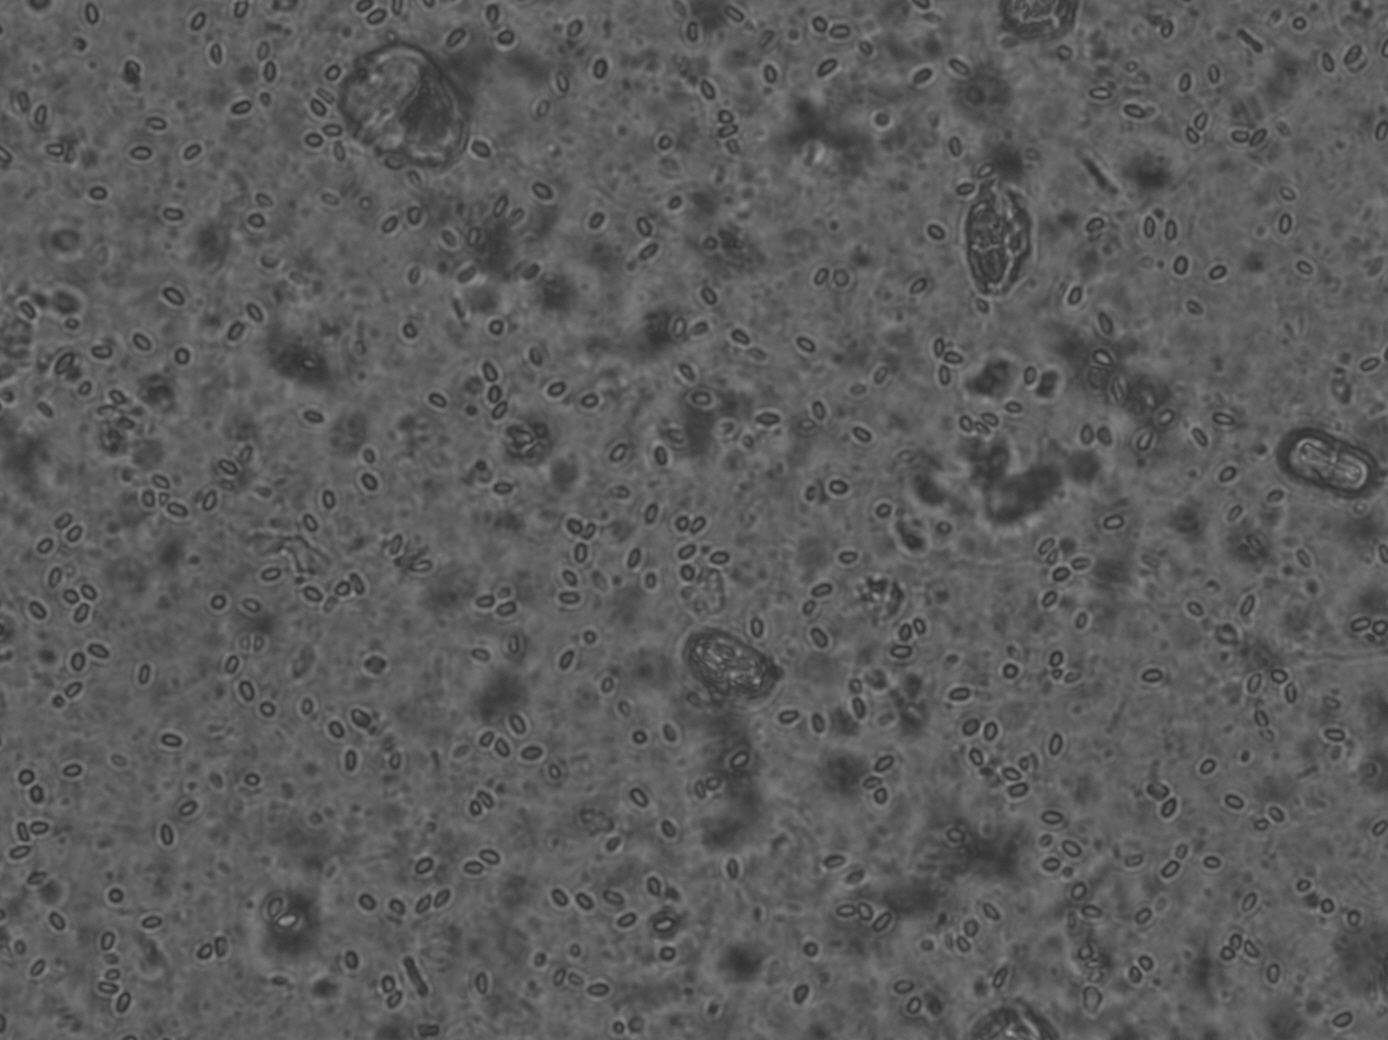spore: (1005, 665, 1018, 677), (1213, 267, 1225, 279), (676, 518, 688, 530), (1337, 1014, 1349, 1026), (103, 935, 115, 947), (1161, 805, 1174, 816), (416, 901, 429, 912), (477, 596, 490, 607), (1178, 76, 1191, 87), (329, 67, 340, 79), (1057, 569, 1069, 580), (1205, 858, 1217, 868), (1205, 761, 1215, 773), (69, 528, 81, 539), (1231, 796, 1242, 808), (970, 753, 982, 764), (693, 518, 705, 529), (494, 405, 506, 416), (164, 735, 176, 746), (329, 726, 341, 737), (111, 891, 123, 902), (1177, 258, 1187, 271), (269, 569, 280, 580), (484, 735, 495, 746), (483, 596, 494, 607), (913, 622, 924, 633), (1320, 901, 1331, 912), (120, 995, 131, 1006), (711, 553, 722, 564), (590, 215, 601, 226), (1161, 867, 1173, 877), (814, 275, 826, 285), (1111, 518, 1123, 528), (1361, 362, 1373, 371), (181, 804, 193, 814), (832, 483, 844, 493), (234, 103, 246, 113), (1006, 770, 1018, 780), (1137, 910, 1149, 920), (1273, 674, 1285, 684), (472, 804, 484, 814), (478, 735, 490, 745), (815, 23, 827, 33), (659, 138, 671, 147), (226, 658, 238, 667), (892, 649, 903, 659), (1171, 865, 1181, 876), (1196, 119, 1207, 129), (1068, 294, 1079, 304), (841, 553, 852, 563), (1199, 763, 1209, 773), (147, 918, 158, 927), (179, 354, 190, 364), (364, 476, 375, 486), (1223, 468, 1234, 477), (183, 146, 193, 157), (1187, 129, 1198, 139), (35, 960, 45, 971), (191, 16, 202, 26), (76, 658, 86, 669), (825, 59, 835, 69), (1049, 745, 1061, 754), (1128, 858, 1140, 866), (1046, 596, 1058, 605), (1291, 23, 1303, 32), (175, 354, 187, 363), (17, 848, 27, 858), (988, 728, 998, 737), (140, 146, 150, 156), (261, 570, 271, 580), (312, 137, 322, 146), (241, 103, 251, 113), (191, 146, 201, 156), (982, 726, 992, 736), (833, 25, 843, 35), (1051, 814, 1060, 824), (910, 1005, 921, 1014), (954, 692, 965, 700), (422, 901, 432, 910), (901, 633, 912, 641), (1042, 596, 1053, 605), (1247, 901, 1258, 910), (1137, 440, 1148, 449), (1138, 961, 1149, 970), (1379, 623, 1388, 634), (625, 918, 636, 926), (1015, 788, 1025, 796), (1242, 901, 1253, 910), (417, 562, 428, 570), (911, 284, 922, 293), (1024, 373, 1035, 381), (815, 588, 826, 596), (260, 702, 271, 711), (780, 711, 791, 720), (1057, 745, 1068, 754), (582, 398, 593, 406), (962, 726, 973, 735), (928, 232, 939, 240), (505, 606, 515, 615), (496, 746, 507, 755), (945, 354, 956, 363), (17, 834, 29, 841), (1176, 268, 1188, 275), (660, 953, 672, 960), (687, 518, 695, 530), (1178, 84, 1190, 92), (1049, 658, 1061, 665), (875, 789, 887, 796), (225, 666, 237, 674), (495, 400, 507, 407), (665, 953, 677, 960), (996, 979, 1006, 988), (1173, 267, 1183, 275), (1379, 130, 1388, 140), (1379, 823, 1388, 832), (876, 763, 886, 771), (903, 649, 912, 659), (685, 571, 695, 580), (616, 450, 626, 459), (70, 764, 80, 772), (1268, 971, 1278, 980), (590, 988, 600, 996), (164, 209, 174, 217), (1103, 519, 1112, 529), (1144, 961, 1154, 970), (1372, 362, 1380, 371), (981, 165, 990, 174), (971, 726, 981, 735), (1208, 268, 1217, 277), (806, 605, 816, 614), (826, 25, 835, 34), (41, 545, 52, 553), (76, 615, 87, 623), (139, 676, 150, 684), (206, 503, 217, 510), (406, 330, 417, 338), (235, 9, 246, 16), (876, 920, 887, 927), (103, 944, 114, 952), (1093, 88, 1104, 96), (1248, 684, 1259, 692), (1066, 675, 1077, 683), (1353, 623, 1364, 630), (597, 70, 608, 78), (1231, 137, 1242, 144), (797, 339, 808, 346), (494, 328, 505, 335), (876, 510, 887, 518), (876, 504, 887, 511), (337, 589, 349, 595), (578, 555, 590, 562), (37, 545, 46, 554), (1051, 858, 1059, 866), (992, 978, 1000, 986), (1076, 563, 1084, 571), (1232, 510, 1241, 519), (54, 146, 62, 155), (1068, 562, 1077, 570), (269, 69, 277, 78), (131, 146, 140, 155), (1059, 674, 1068, 683), (305, 138, 313, 146), (590, 529, 598, 537), (563, 659, 573, 666), (1281, 225, 1291, 233), (382, 225, 392, 233), (1164, 233, 1174, 240), (1051, 670, 1060, 677), (842, 910, 852, 918), (391, 546, 401, 554), (555, 389, 565, 397), (407, 216, 417, 224), (1266, 815, 1276, 823), (833, 277, 843, 285), (660, 920, 669, 927), (962, 694, 972, 701), (1249, 139, 1260, 145), (468, 867, 479, 874), (87, 17, 98, 24), (269, 911, 280, 918), (822, 70, 833, 76), (1380, 45, 1388, 54), (547, 390, 556, 398), (278, 919, 287, 926), (904, 1007, 913, 1015), (590, 399, 598, 406), (202, 501, 211, 509), (617, 919, 626, 926), (722, 554, 729, 563), (416, 867, 426, 874), (1041, 546, 1051, 553), (1336, 1023, 1345, 1029), (70, 771, 80, 778), (962, 946, 972, 953), (573, 555, 583, 562), (1371, 633, 1380, 639), (475, 867, 485, 874), (849, 911, 858, 918), (346, 764, 356, 770), (278, 911, 288, 918), (17, 780, 27, 787), (1144, 677, 1155, 683), (558, 659, 566, 666), (1278, 226, 1286, 233), (434, 901, 442, 908), (366, 10, 375, 16), (408, 564, 417, 570), (60, 694, 69, 700), (62, 771, 71, 778), (182, 156, 192, 162), (1190, 123, 1200, 129), (817, 70, 825, 76), (366, 17, 373, 24), (476, 860, 485, 865), (903, 645, 912, 650), (27, 781, 36, 787), (19, 843, 28, 848), (105, 982, 112, 988), (26, 834, 34, 839), (115, 1008, 122, 1014), (1243, 139, 1250, 144), (1086, 227, 1094, 232), (1381, 52, 1388, 58)
